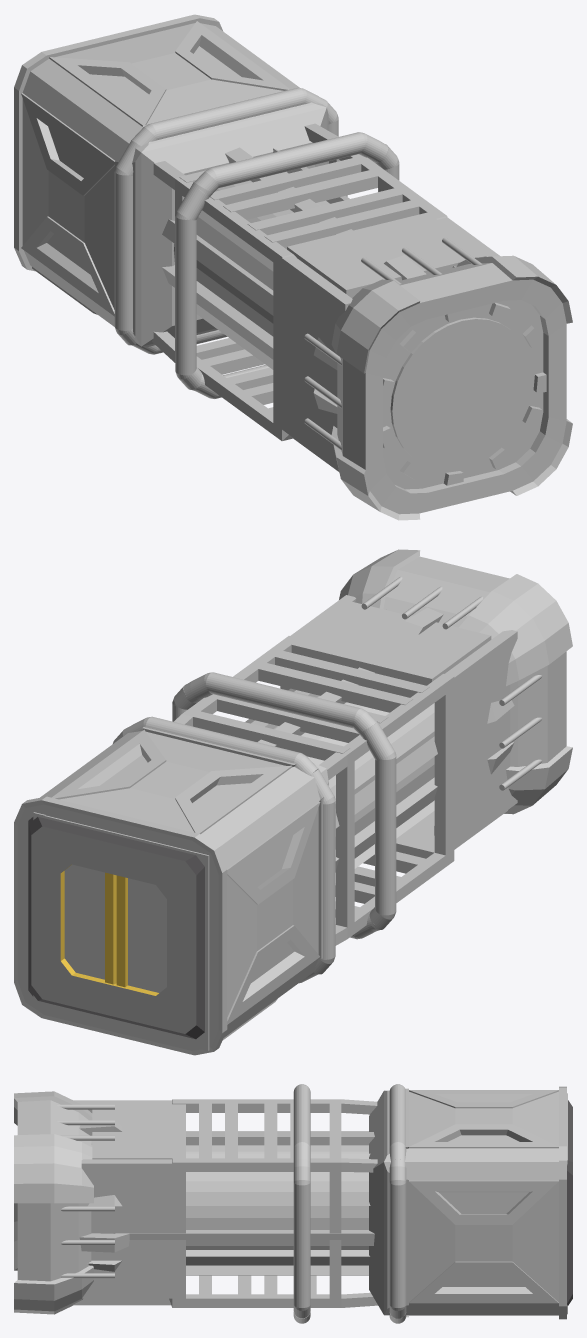
Rendered from Souper_B3MP_Launcher_Constr3.fbx.
The picture shows the model from 3 angles, top to bottom: view 1: azimuth 30°, elevation 25°; view 2: azimuth 150°, elevation 25°; view 3: azimuth 270°, elevation 25°; orthographic projection. The views are drawn at different scales.
Visible parts, largest first — view 1: Cube.107, Cube.109, Cube.084, Cylinder.058, Cylinder.059, Cylinder.060; view 2: Cube.107, Cube.109, Cube.083, Cube.084, Cylinder.059, Cylinder.058, Cylinder.060; view 3: Cube.107, Cube.109, Cylinder.058, Cube.084, Cylinder.059, Cylinder.060, Cube.083.
Part boxes in pixels (x1,y1,x2,y2): Cube.107: (14, 14, 328, 346); Cube.109: (32, 123, 500, 471); Cube.084: (331, 255, 572, 520); Cylinder.058: (162, 147, 546, 485); Cylinder.059: (114, 87, 399, 398); Cylinder.060: (304, 237, 482, 450); Cube.107: (14, 727, 328, 1055); Cube.109: (33, 595, 517, 1050); Cube.083: (28, 817, 204, 1039); Cube.084: (339, 549, 572, 814); Cylinder.059: (113, 672, 396, 983); Cylinder.058: (245, 607, 514, 882); Cylinder.060: (361, 576, 542, 790); Cube.107: (369, 1086, 566, 1319); Cube.109: (72, 1093, 567, 1314); Cylinder.058: (79, 1121, 374, 1275); Cube.084: (14, 1091, 93, 1314); Cylinder.059: (293, 1084, 406, 1323); Cylinder.060: (56, 1104, 114, 1278); Cube.083: (567, 1100, 572, 1305).
Bounding box in the file's own units: 2.75 × 2.73 × 7.63.
